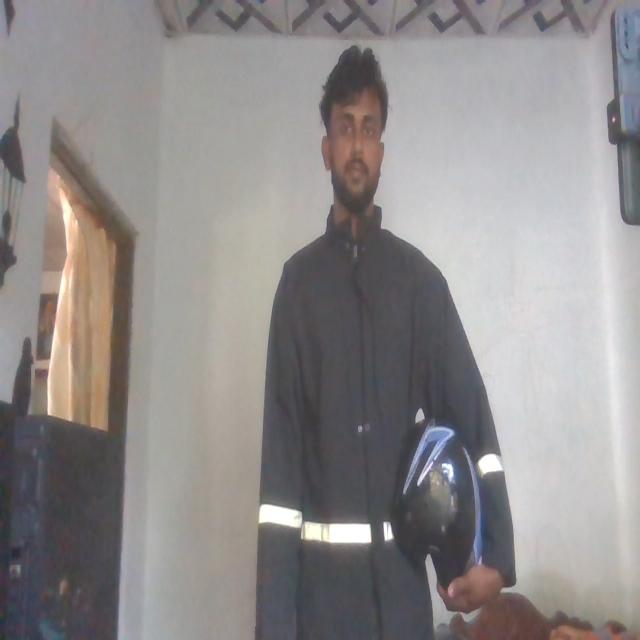Jacket_Wearer: (263, 211, 517, 630)
Person: (261, 43, 518, 640)
